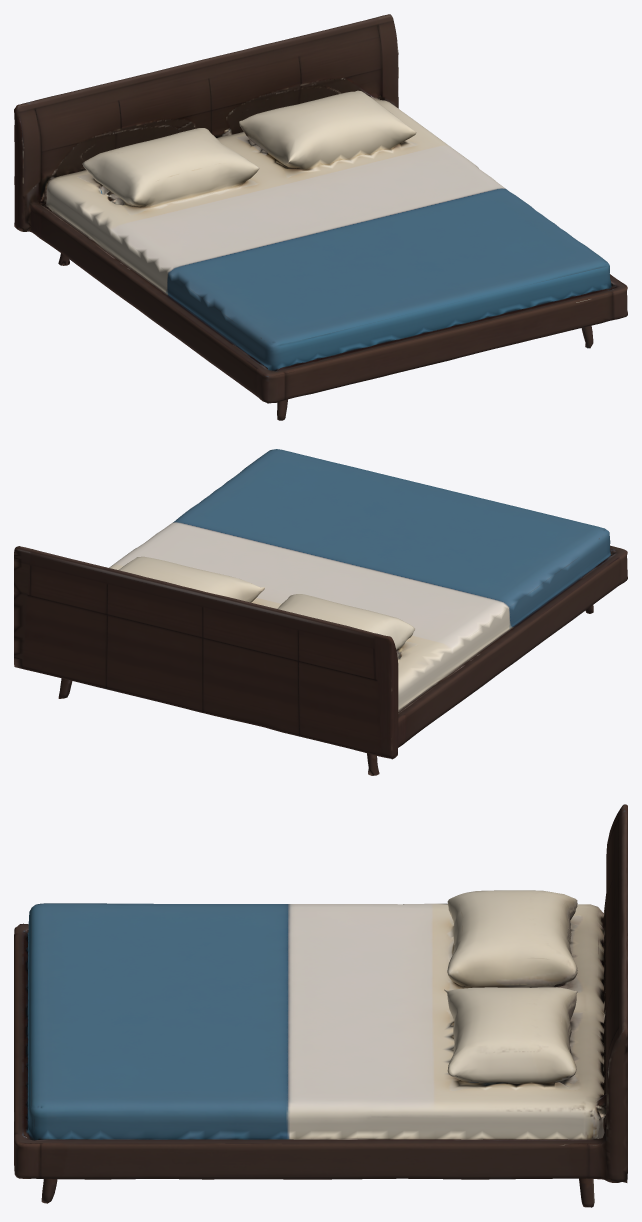
Rendered from Meshy_AI_A_stylized_low_poly_d_0107190440_texture.fbx.
3 views of the same model, one above another, from view 1: azimuth 30°, elevation 25°; view 2: azimuth 150°, elevation 25°; view 3: azimuth 270°, elevation 25° (orthographic). The views are drawn at different scales.
Visible parts, largest first — view 1: Mesh0; view 2: Mesh0; view 3: Mesh0.
Part boxes in pixels (x1,y1,x2,y2): Mesh0: [14, 14, 627, 420]; Mesh0: [14, 449, 627, 775]; Mesh0: [14, 804, 627, 1207].
Bounding box in the file's own units: 170 × 66.63 × 191.
Materials: 1 (1 with a texture image).
